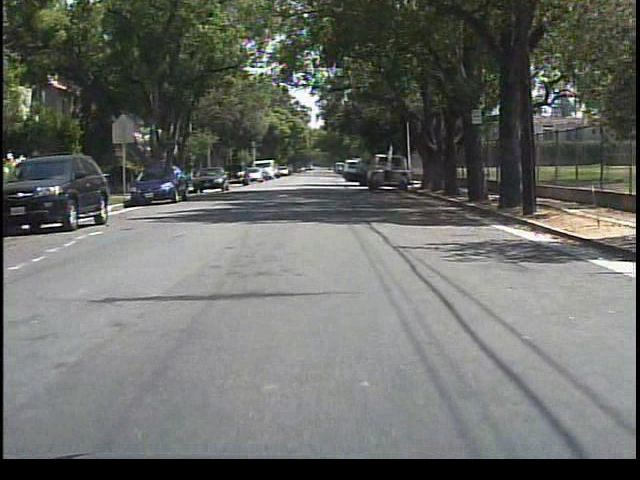person: (356, 161, 371, 188)
